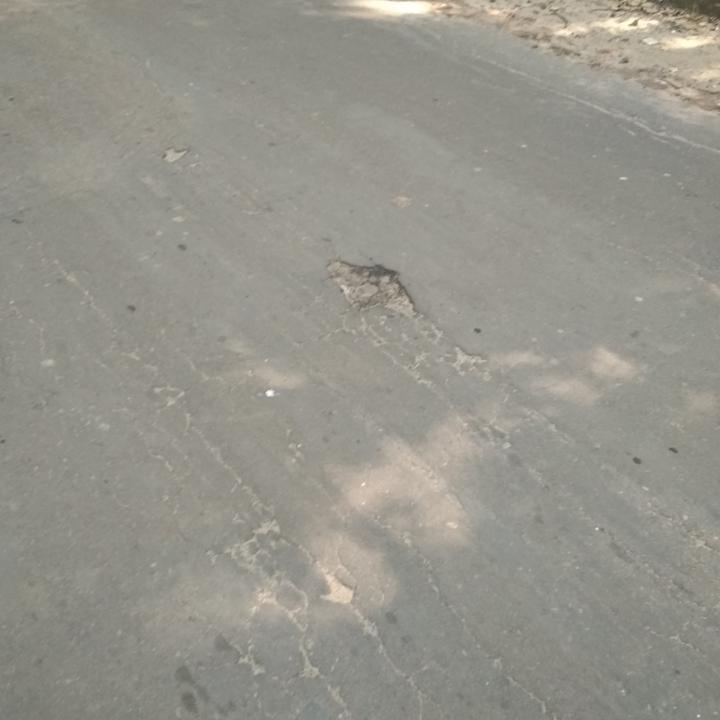pothole: (325, 254, 420, 322), (317, 570, 359, 605), (610, 28, 665, 53), (684, 44, 720, 67), (161, 144, 190, 164), (650, 0, 686, 10), (603, 0, 637, 10), (635, 12, 663, 24), (668, 22, 698, 33), (704, 1, 720, 12), (686, 0, 710, 4)
